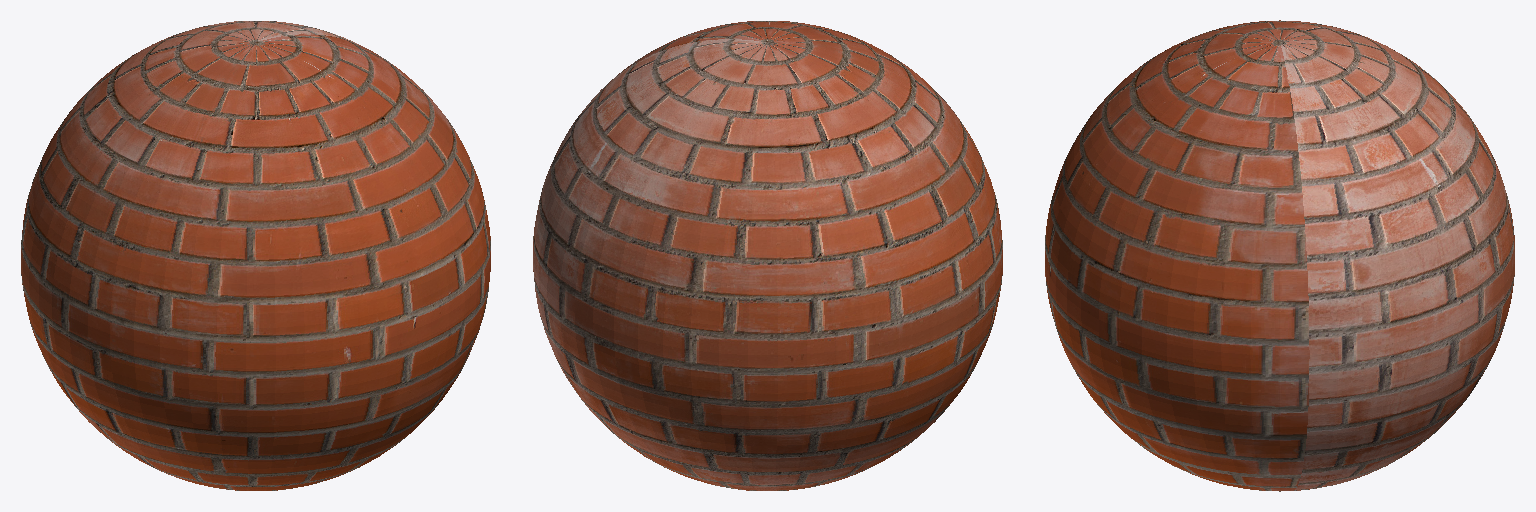
3 views of the same model, side by side, from view 1: azimuth 30°, elevation 25°; view 2: azimuth 150°, elevation 25°; view 3: azimuth 270°, elevation 25° (orthographic).
Visible parts, largest first — view 1: pSphere1; view 2: pSphere1; view 3: pSphere1.
Boxes of the visible parts, box(x1,y1,x2,y2) form: pSphere1: box(21, 21, 490, 490); pSphere1: box(533, 21, 1002, 490); pSphere1: box(1045, 20, 1514, 491).
Bounding box in the file's own units: 1.57 × 1.57 × 1.57.
1 materials, 1 textured.